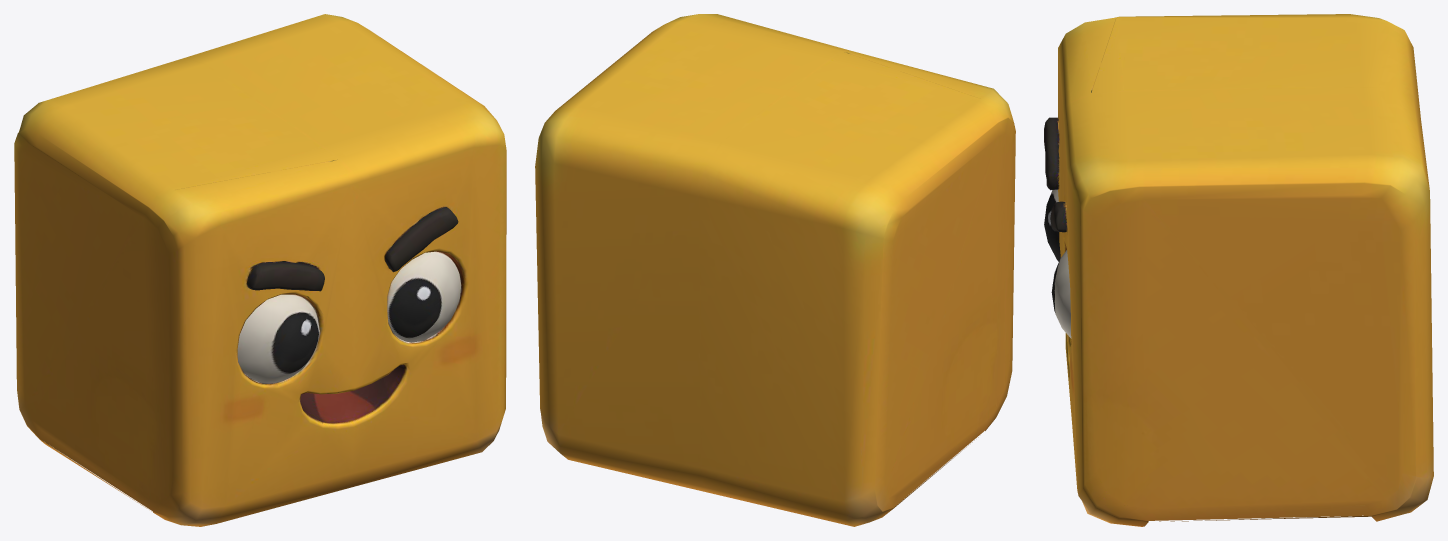
Rendered from golden_cube_champion.glb.
3 renders of one model, left to right at view 1: azimuth 30°, elevation 25°; view 2: azimuth 150°, elevation 25°; view 3: azimuth 270°, elevation 25°, orthographic. The views are drawn at different scales.
Parts seen in each view (by area): view 1: Golden Cube Champion; view 2: Golden Cube Champion; view 3: Golden Cube Champion.
Boxes of the visible parts, x1,y1,x2,y2 form: Golden Cube Champion: (14,14,506,526); Golden Cube Champion: (535,14,1015,526); Golden Cube Champion: (1044,14,1433,526).
Bounding box in the file's own units: 0.6699 × 0.6309 × 0.5977.
Materials: 1 (1 with a texture image).
